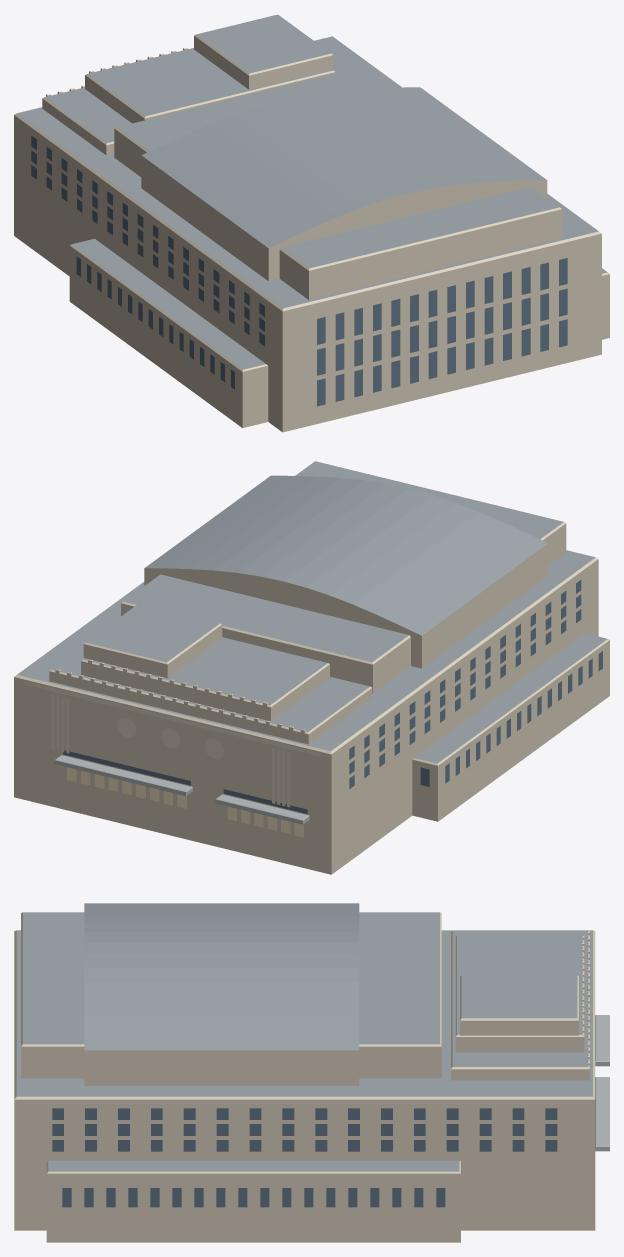
File: kc-municipal-auditorium.glb
3 views of the same model, one above another, from view 1: azimuth 30°, elevation 25°; view 2: azimuth 150°, elevation 25°; view 3: azimuth 270°, elevation 25° (orthographic). The views are drawn at different scales.
Parts seen in each view (by area): view 1: Municipal Auditorium; view 2: Municipal Auditorium; view 3: Municipal Auditorium.
Boxes of the visible parts, box(x1,y1,x2,y2) form: Municipal Auditorium: box(14, 14, 609, 432); Municipal Auditorium: box(14, 461, 609, 874); Municipal Auditorium: box(14, 903, 609, 1242).
Bounding box in the file's own units: 100 × 46 × 130.
